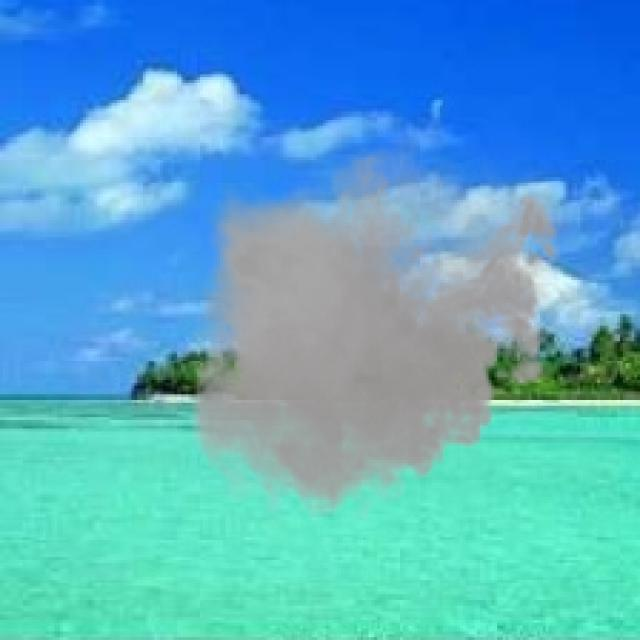Smoke: (177, 128, 572, 532)
